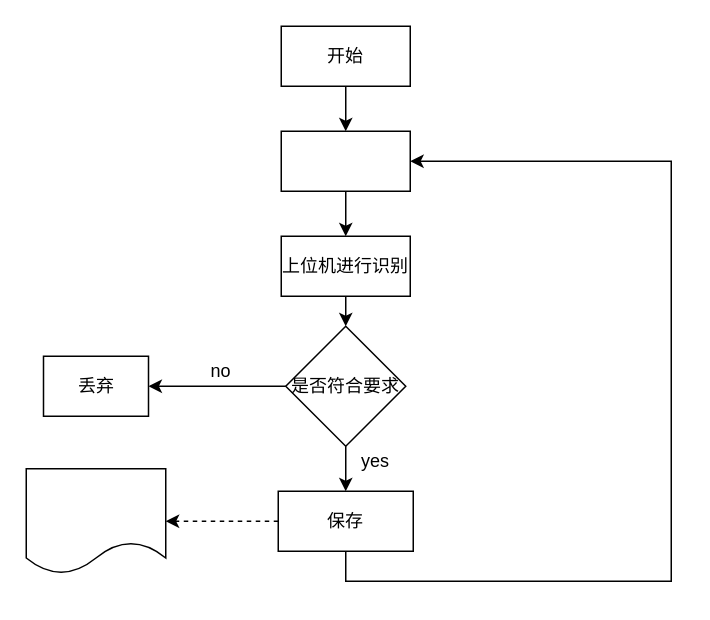
This 710x620 diagram has some shape labels left out. The shapes that lost their labels are listed below. From the top down, each one's box as (x1, y1, x2, y2) in pixels, then its label:
(280, 130, 410, 191): 分站发送数据
(25, 467, 166, 574): data表
